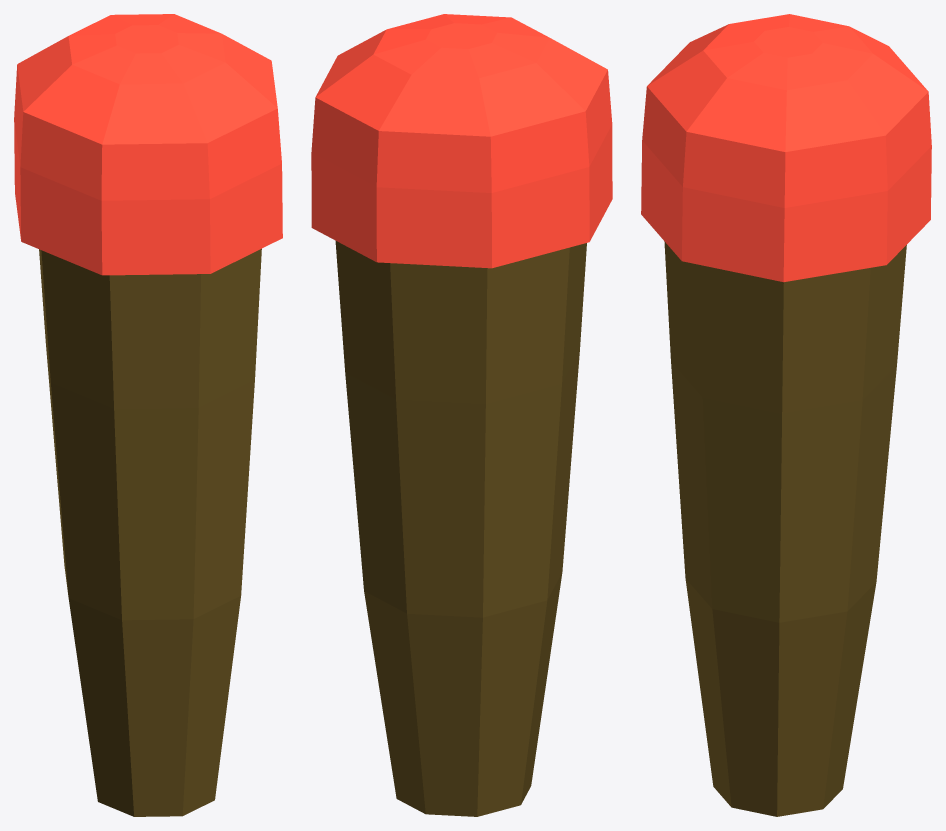
File: IM_Torch.fbx
The picture shows the model from 3 angles, left to right: view 1: azimuth 30°, elevation 25°; view 2: azimuth 150°, elevation 25°; view 3: azimuth 270°, elevation 25°; orthographic projection. The views are drawn at different scales.
Parts seen in each view (by area): view 1: Cube.002; view 2: Cube.002; view 3: Cube.002.
Boxes of the visible parts, x1,y1,x2,y2 form: Cube.002: (14, 14, 282, 816); Cube.002: (311, 14, 612, 816); Cube.002: (641, 14, 931, 816).
Size of the model in its own units: 23.78 by 67.35 by 23.75.
